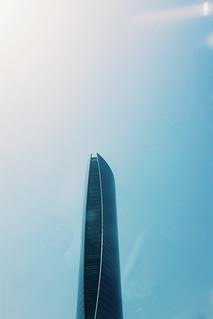building: (74, 151, 126, 319)
